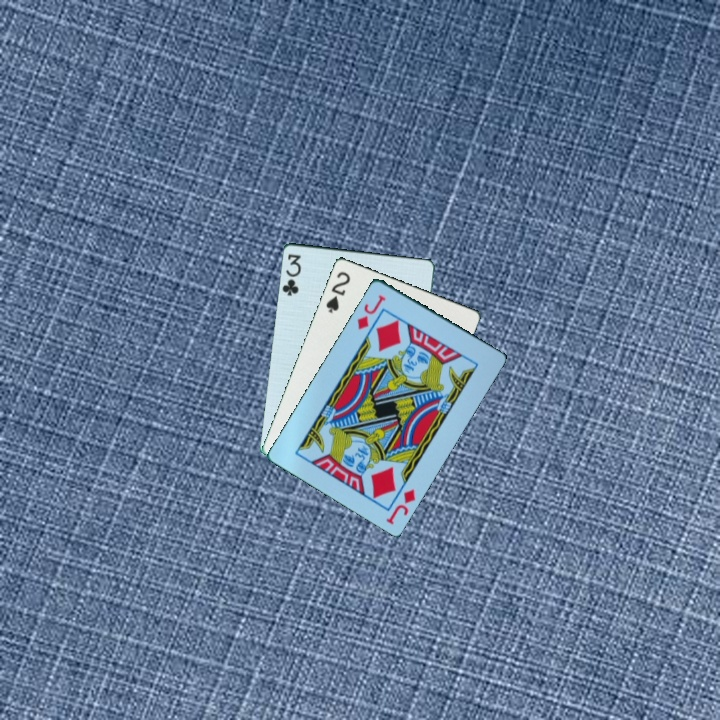2s: (322, 267, 353, 316)
3c: (278, 250, 304, 298)
Jd: (382, 485, 419, 527), (353, 291, 389, 332)
